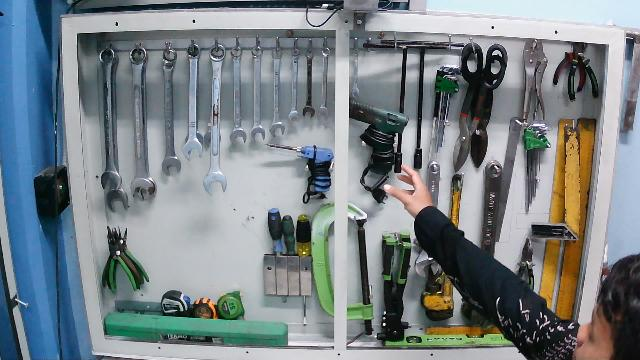gun_lem: (349, 95, 410, 205)
